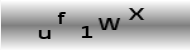1: (79, 24, 93, 38)
W: (97, 17, 121, 31)
X: (128, 6, 146, 22)
f: (56, 10, 67, 25)
u: (38, 28, 52, 41)
